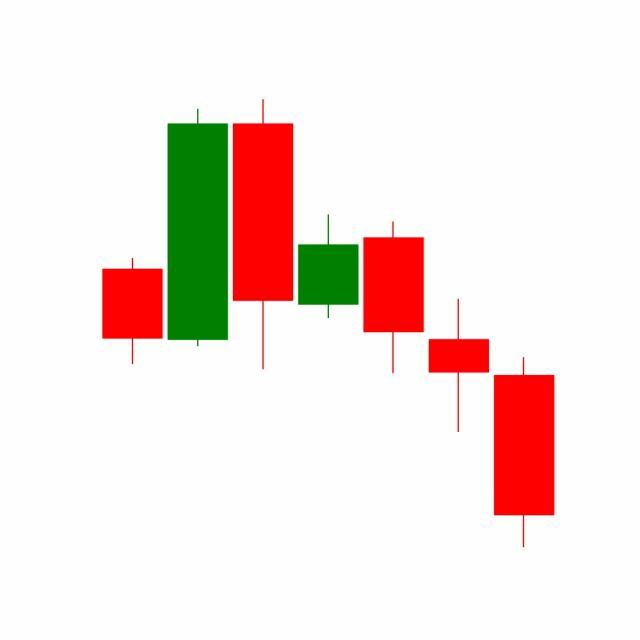Three Outside Up-Down: (295, 213, 492, 435)
